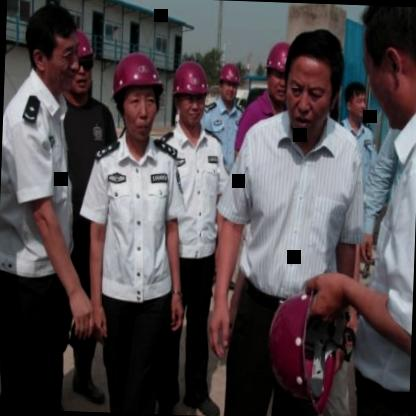head: (357, 5, 416, 136), (283, 25, 345, 142), (22, 0, 83, 96), (343, 77, 371, 132)
helmet: (106, 50, 170, 148), (172, 58, 212, 134), (64, 24, 100, 100), (263, 38, 297, 108), (215, 62, 243, 108)
